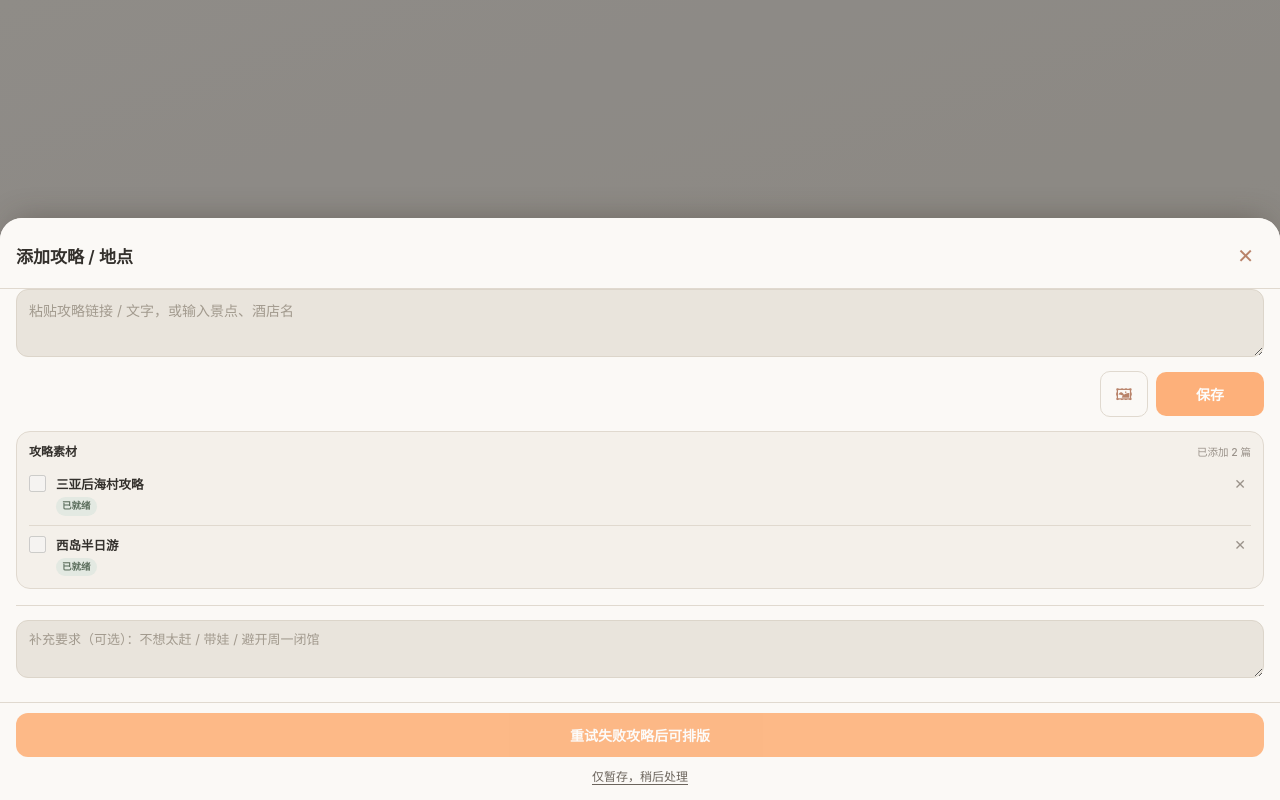
Test: day 添加面板（任务 198） › global 面板保持原布局：来源列表与排版区照常，按钮文案不变
expect the element named "已添加的攻略来源" is shown: met, box [16, 431, 1264, 589]
expect the text "已添加 2 篇" is shown: met, box [1197, 444, 1251, 459]
Type "亚龙湾" into the text box with placeholder "粘贴攻略链接 / 文字，或输入景点、酒店名" at (640, 323), box [16, 289, 1264, 358]
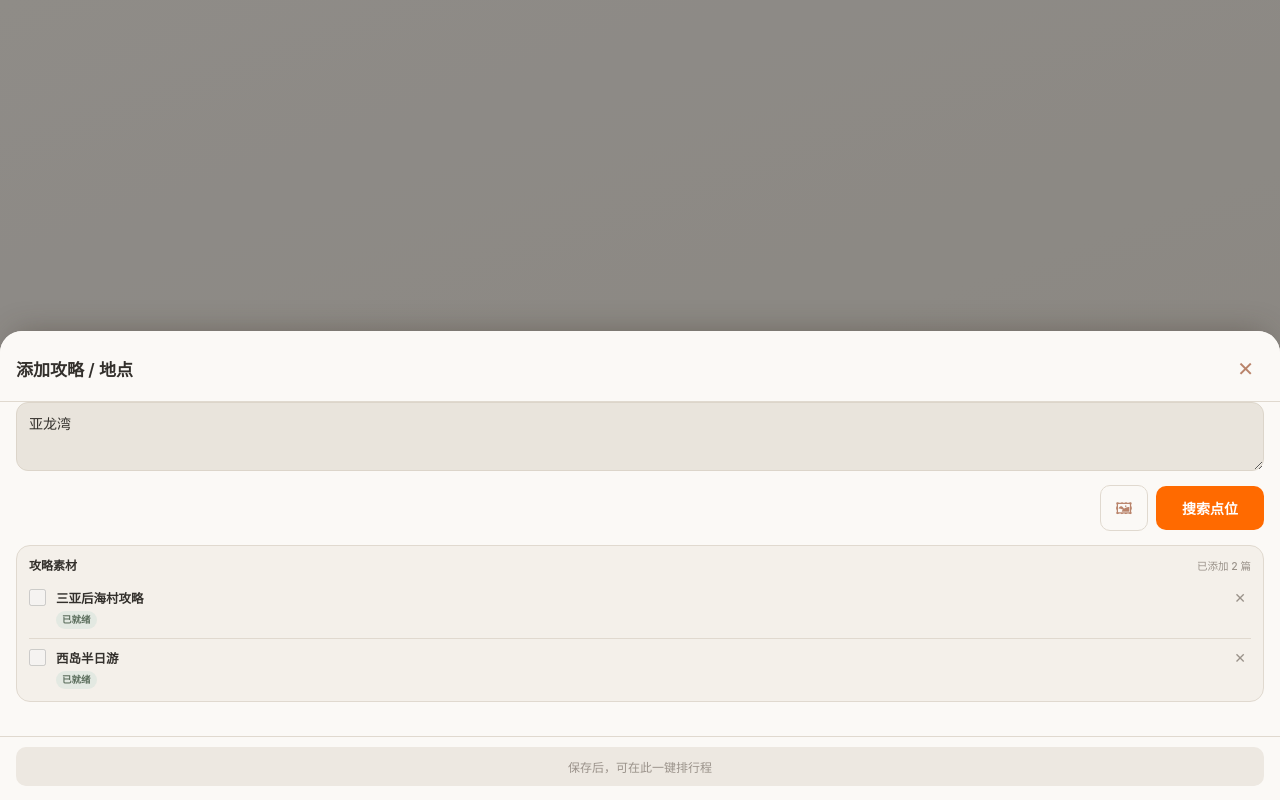
expect the button "搜索点位" is shown: met, box [1156, 486, 1264, 530]
